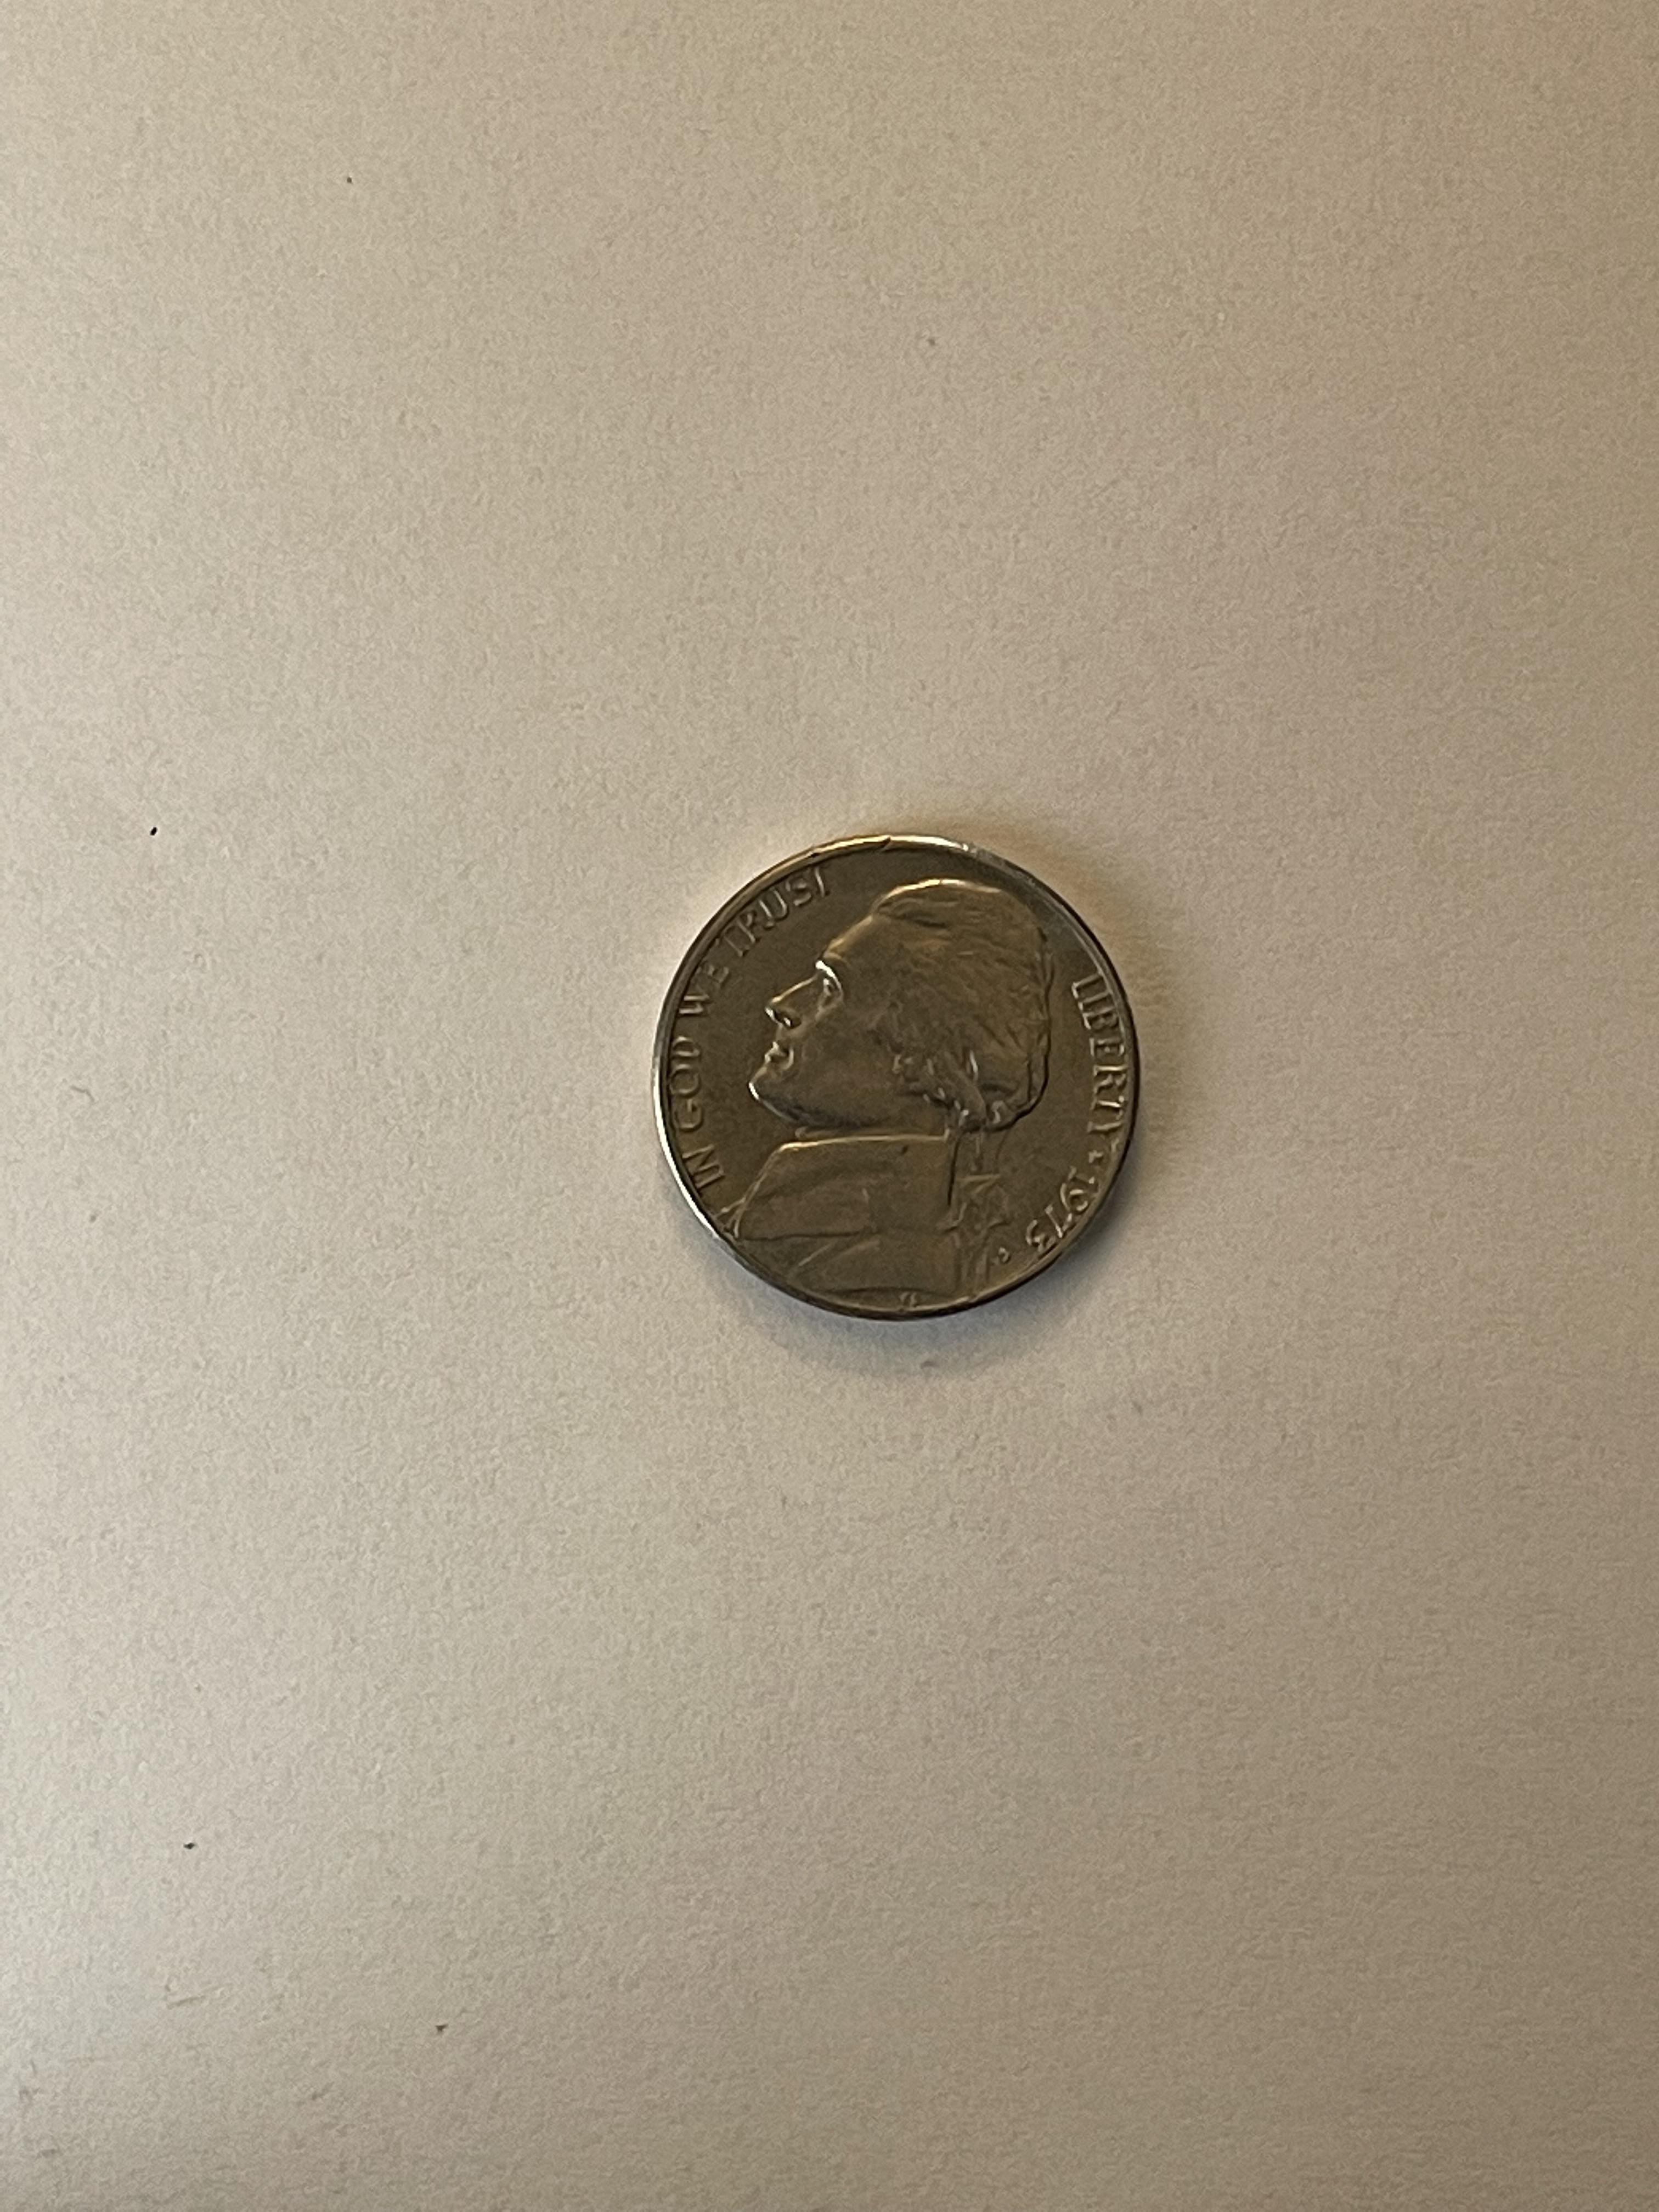Nickel: (650, 833, 1143, 1322)
